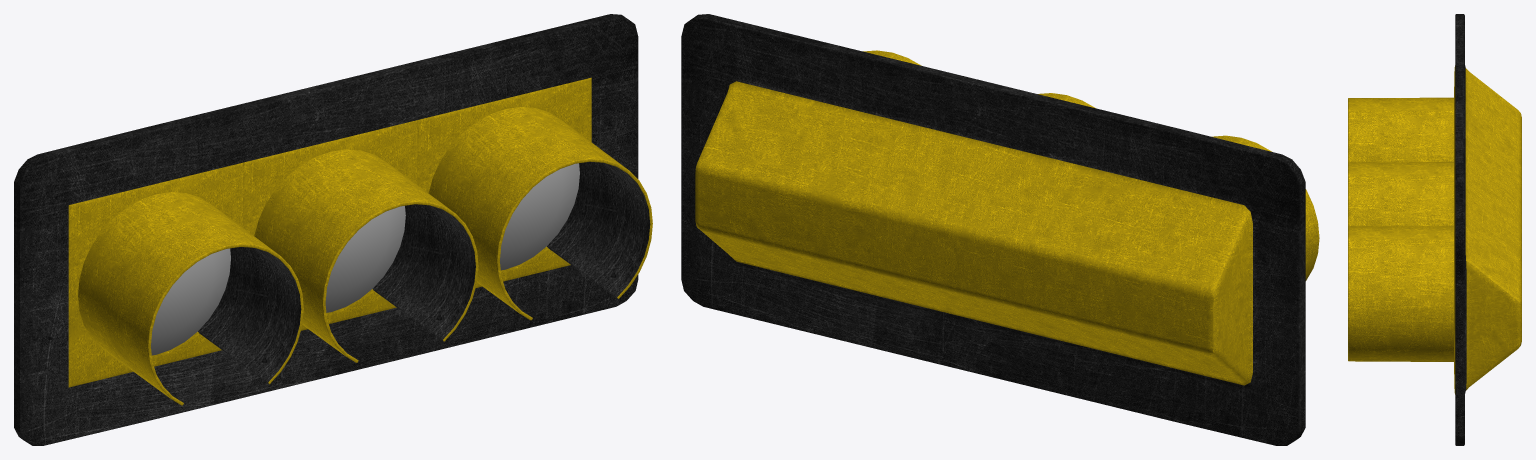
The model's file is TrafficSignalHorizontalHalfConeBlack3.fbx.
3 renders of one model, left to right at view 1: azimuth 30°, elevation 25°; view 2: azimuth 150°, elevation 25°; view 3: azimuth 270°, elevation 25°, orthographic. The views are drawn at different scales.
Parts seen in each view (by area): view 1: Casing, SignalLight1, SignalLight0, SignalLight2; view 2: Casing; view 3: Casing.
Boxes of the visible parts, x1,y1,x2,y2 form: Casing: (14,14,652,445); SignalLight1: (325,206,405,312); SignalLight0: (151,248,230,355); SignalLight2: (500,163,579,270); Casing: (681,14,1319,445); Casing: (1348,14,1521,445).
Bounding box in the file's own units: 1.47 × 0.6568 × 0.4739.
